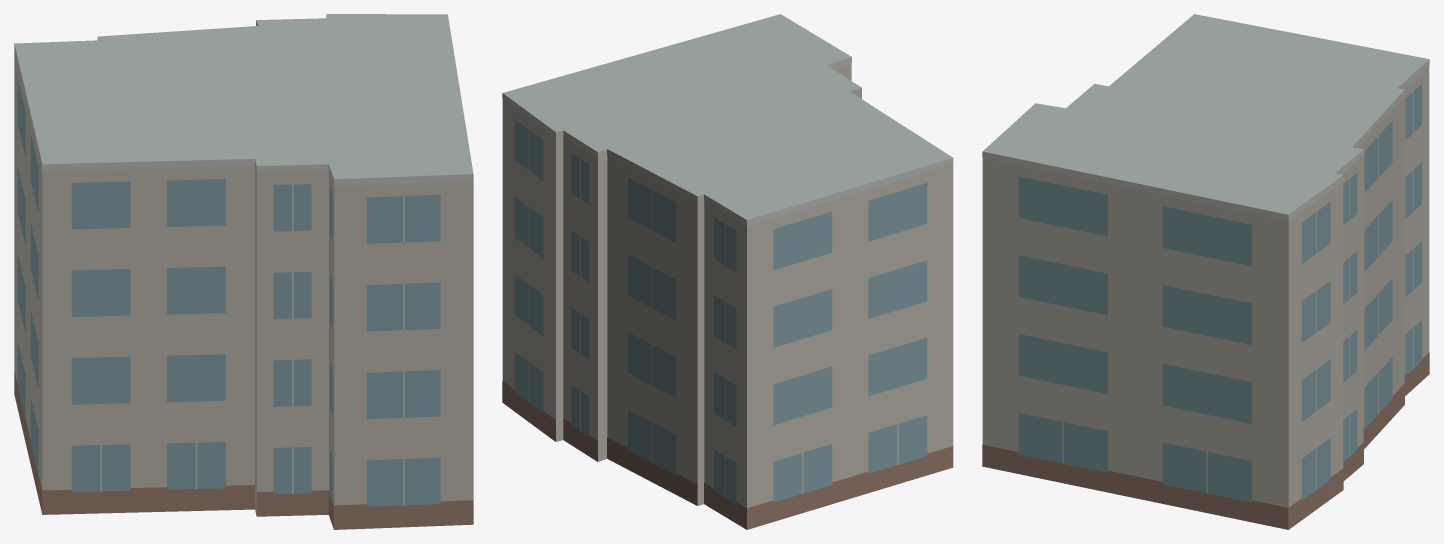
Rendered from survey-upis-32647808.glb.
3 renders of one model, left to right at view 1: azimuth 30°, elevation 25°; view 2: azimuth 150°, elevation 25°; view 3: azimuth 270°, elevation 25°, orthographic. The views are drawn at different scales.
Parts seen in each view (by area): view 1: survey-upis-32647808.tmp; view 2: survey-upis-32647808.tmp; view 3: survey-upis-32647808.tmp.
Boxes of the visible parts, x1=… form: survey-upis-32647808.tmp: x1=14, y1=14, x2=473, y2=529; survey-upis-32647808.tmp: x1=502, y1=14, x2=953, y2=529; survey-upis-32647808.tmp: x1=982, y1=14, x2=1429, y2=529.
Size of the model in its own units: 16.68 by 12.2 by 15.69.
